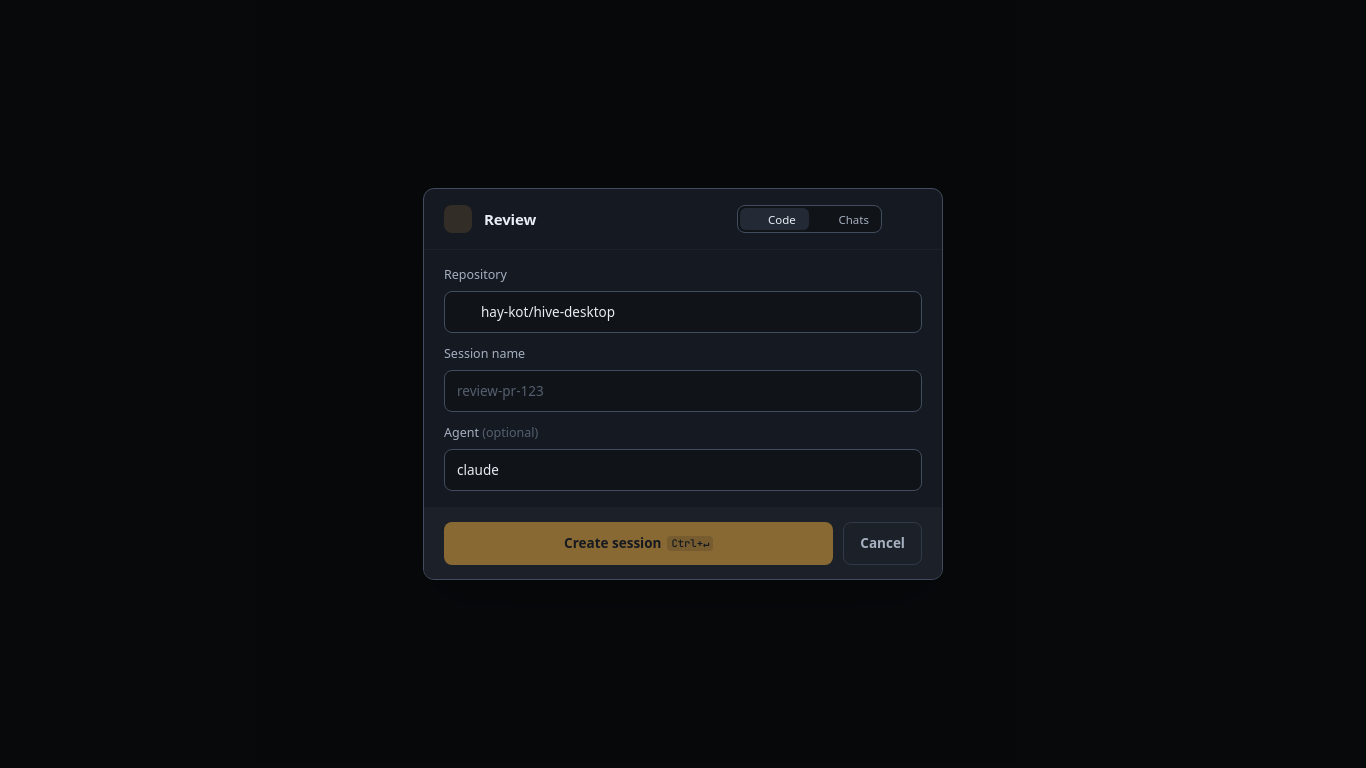
Test: SessionLaunchDialog: launched from an action › requires a prompt-capable workspace
This screenshot has width=1366, height=768.
Click the button with test id "session-target-workspace" at (845, 219), box [810,208,879,230]
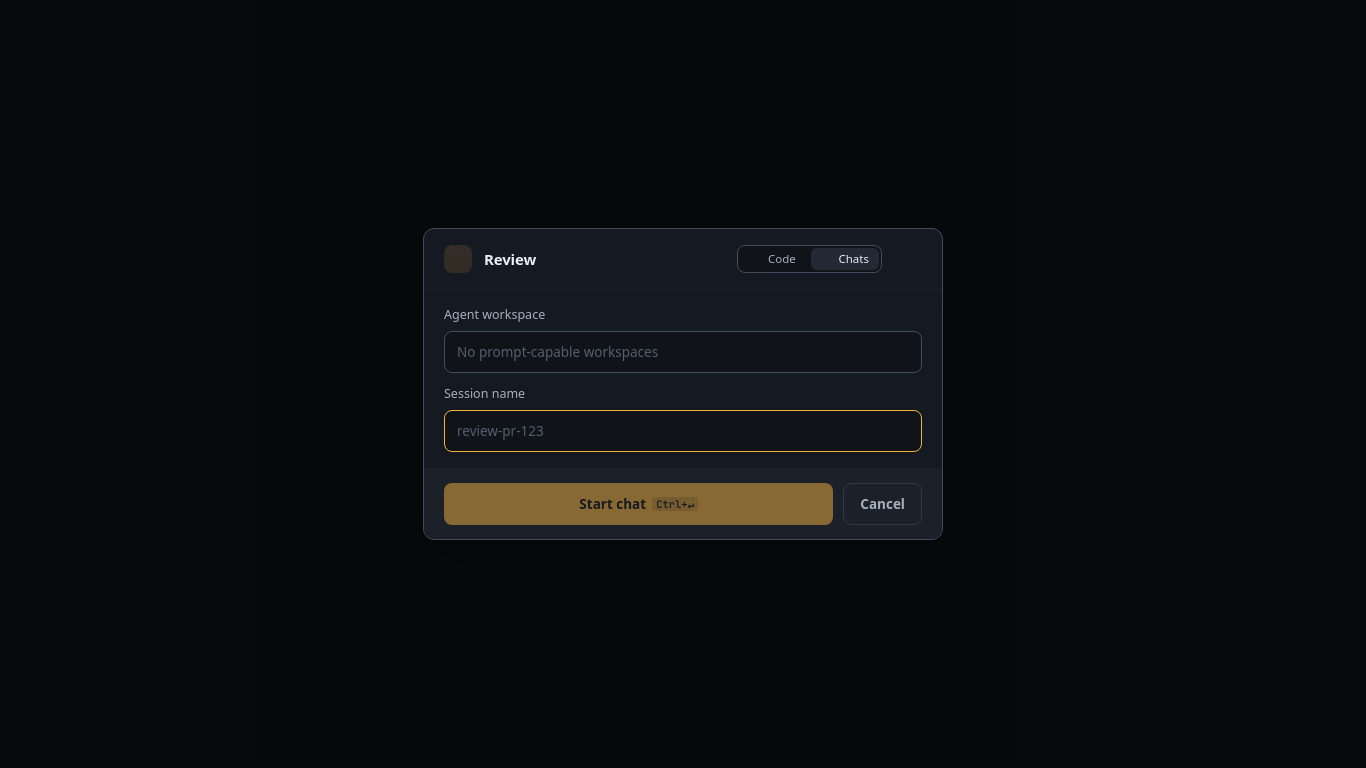
Type "triage-alert" into the field with test id "session-name" at (683, 431), box [444,410,922,452]
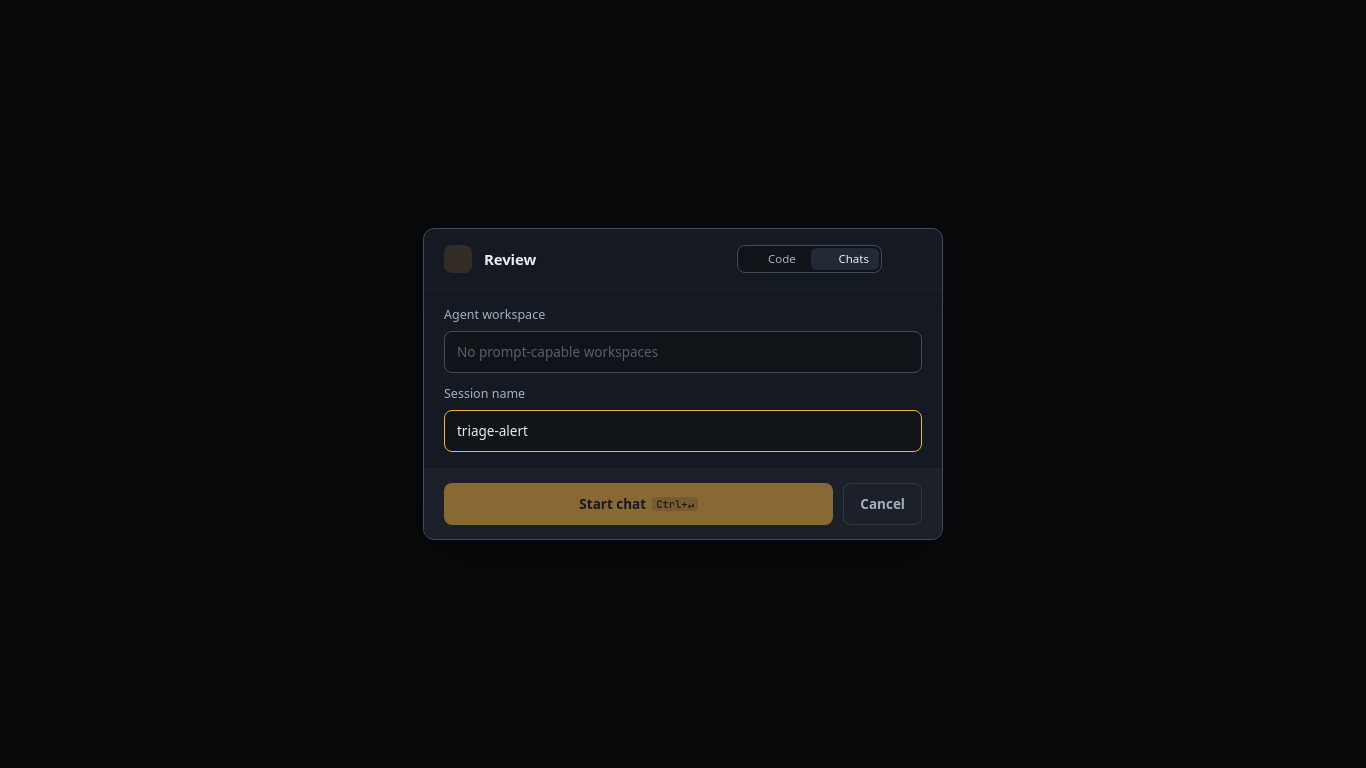
Submit the form, box [424,290,942,468]
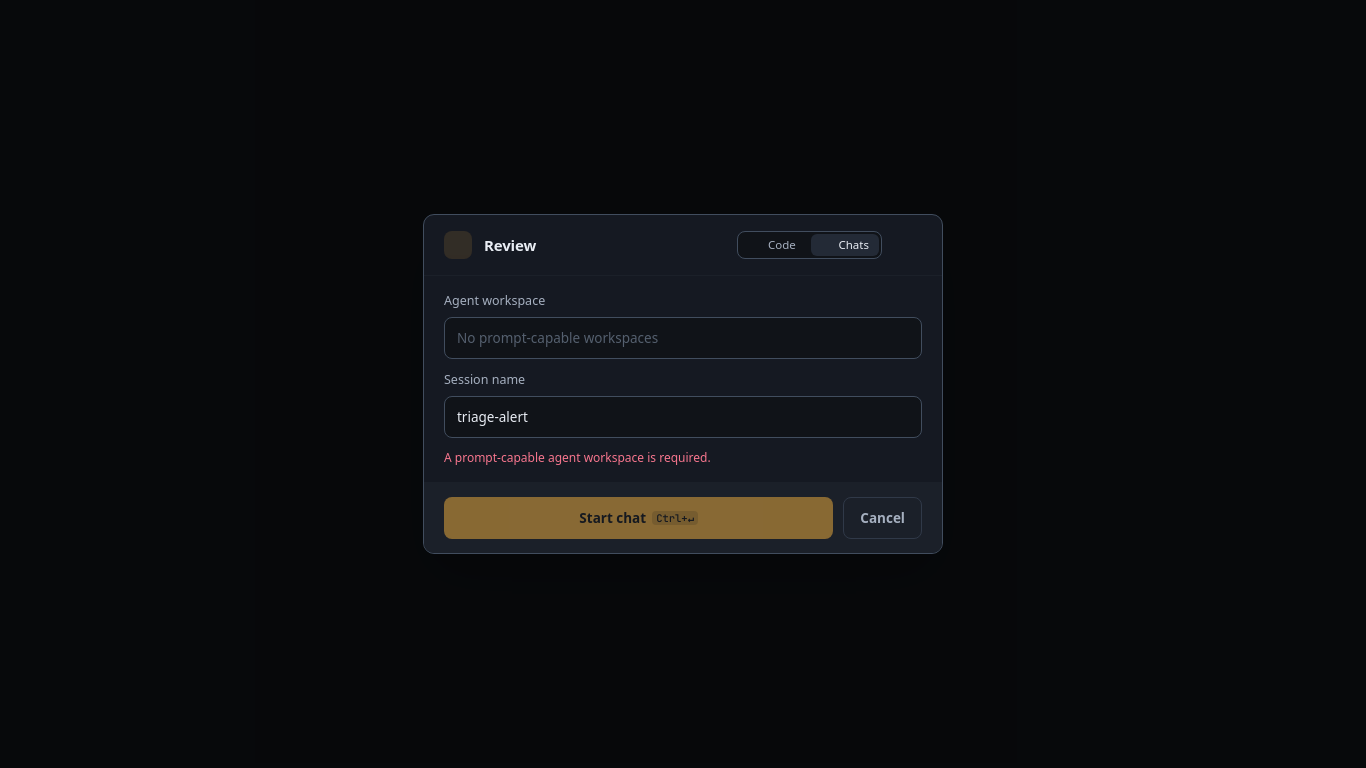
Expected: the message with test id "create-session-error" shows "prompt-capable", [444,449,711,466]
